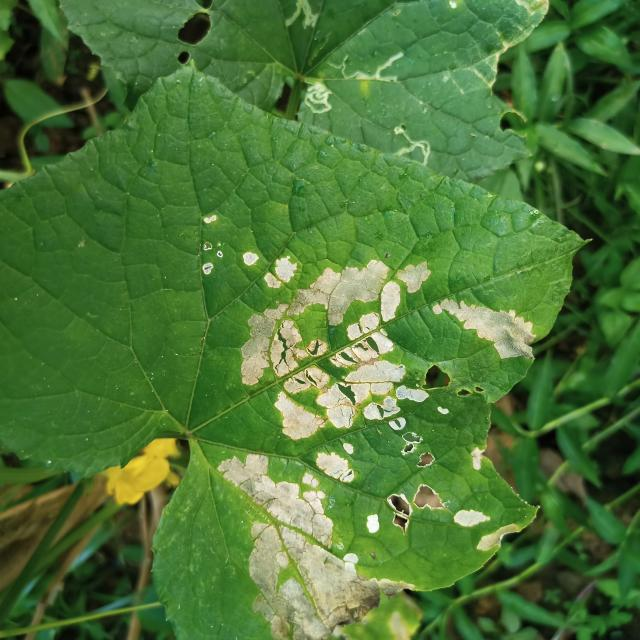disease_cucumber: (213, 443, 528, 640), (238, 246, 536, 444), (192, 211, 229, 284)
